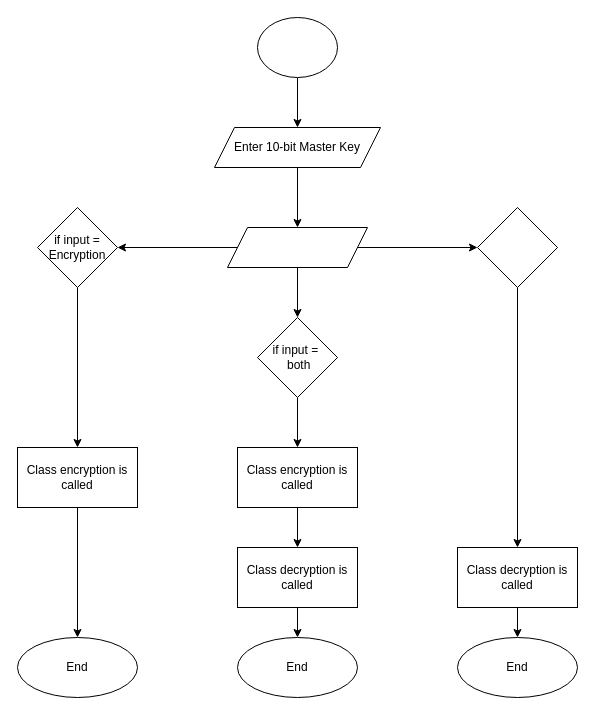
Image size: 595x715. Some labels were removed from this diagram. Here are the shapes that lost their labels. From the top down, the centre of each, then its label:
At (x=297, y=47): "START".
At (x=297, y=247): "Input Encryption or Decryption or Both".
At (x=517, y=247): "if input = Decryption".
